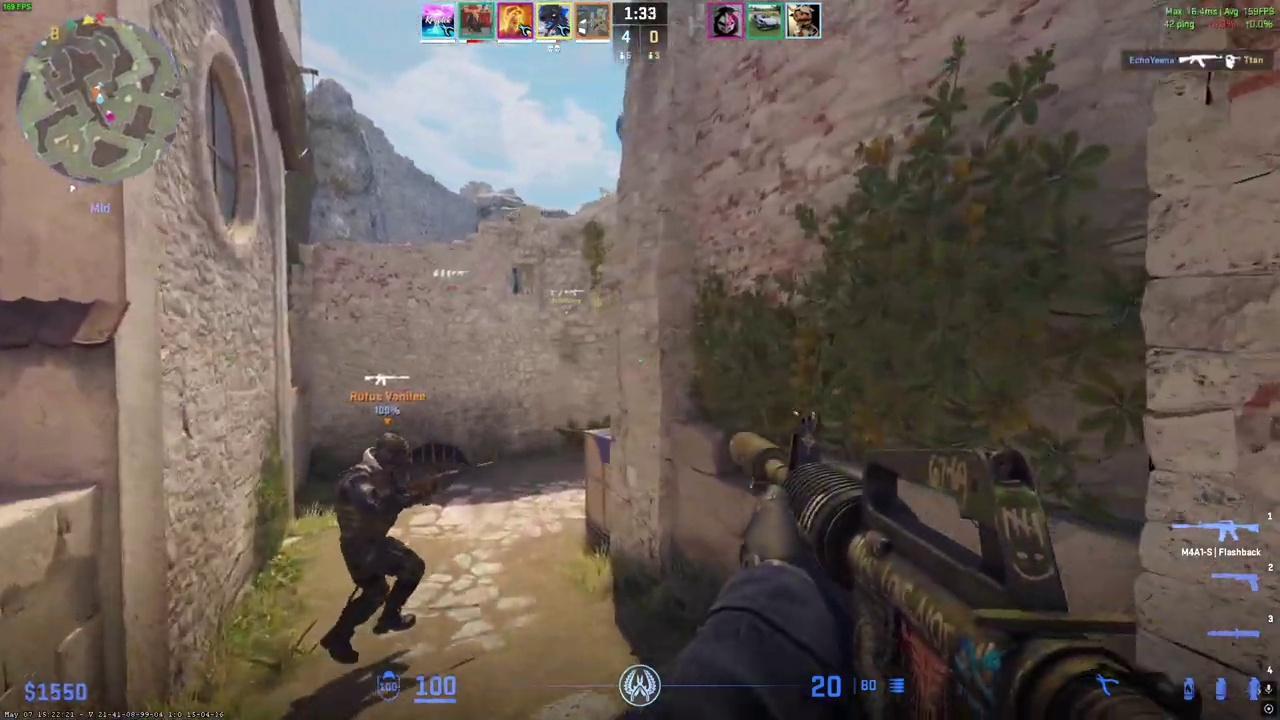CT: (328, 431, 431, 663)
